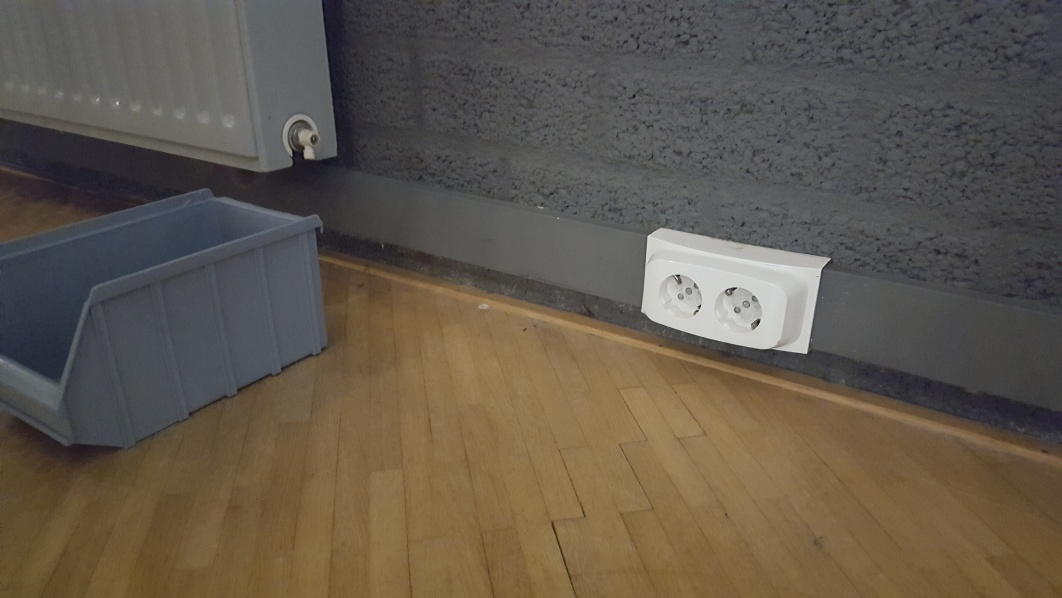tray: (1, 188, 333, 450)
